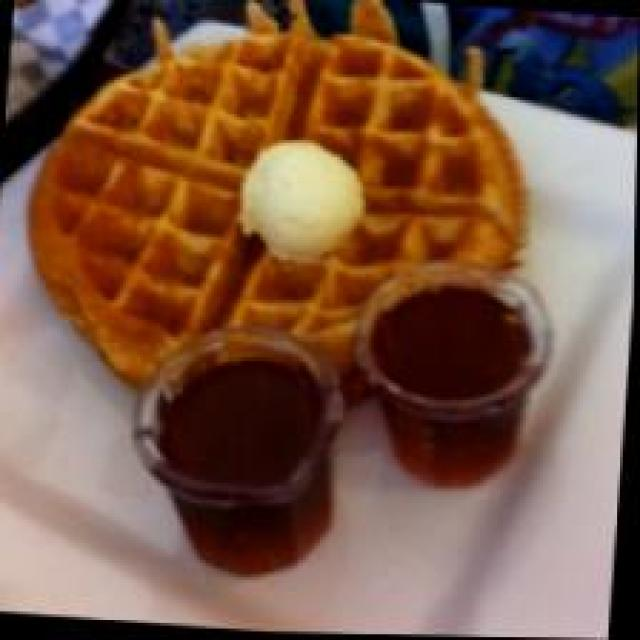Waffles: (22, 4, 547, 422)
